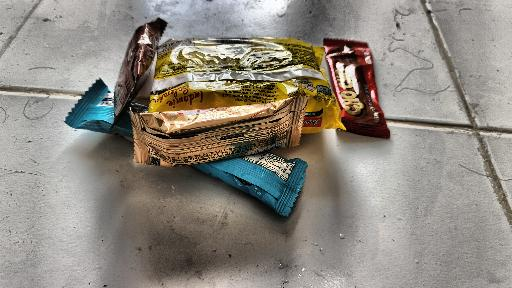chocho: (311, 23, 391, 145)
top: (126, 95, 313, 168)
